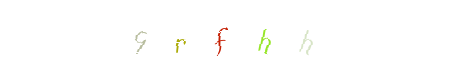9: (158, 0, 238, 80)
F: (187, 0, 267, 80)
H: (193, 0, 273, 80), (208, 0, 288, 80)
R: (180, 0, 260, 80)
